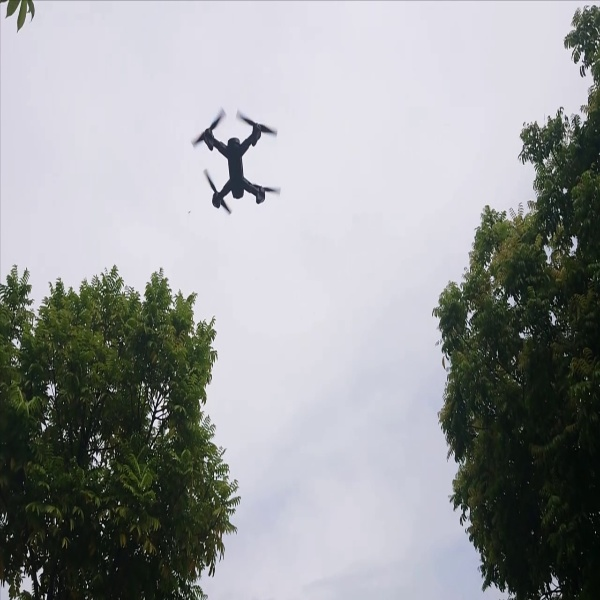drone: (176, 102, 292, 220)
